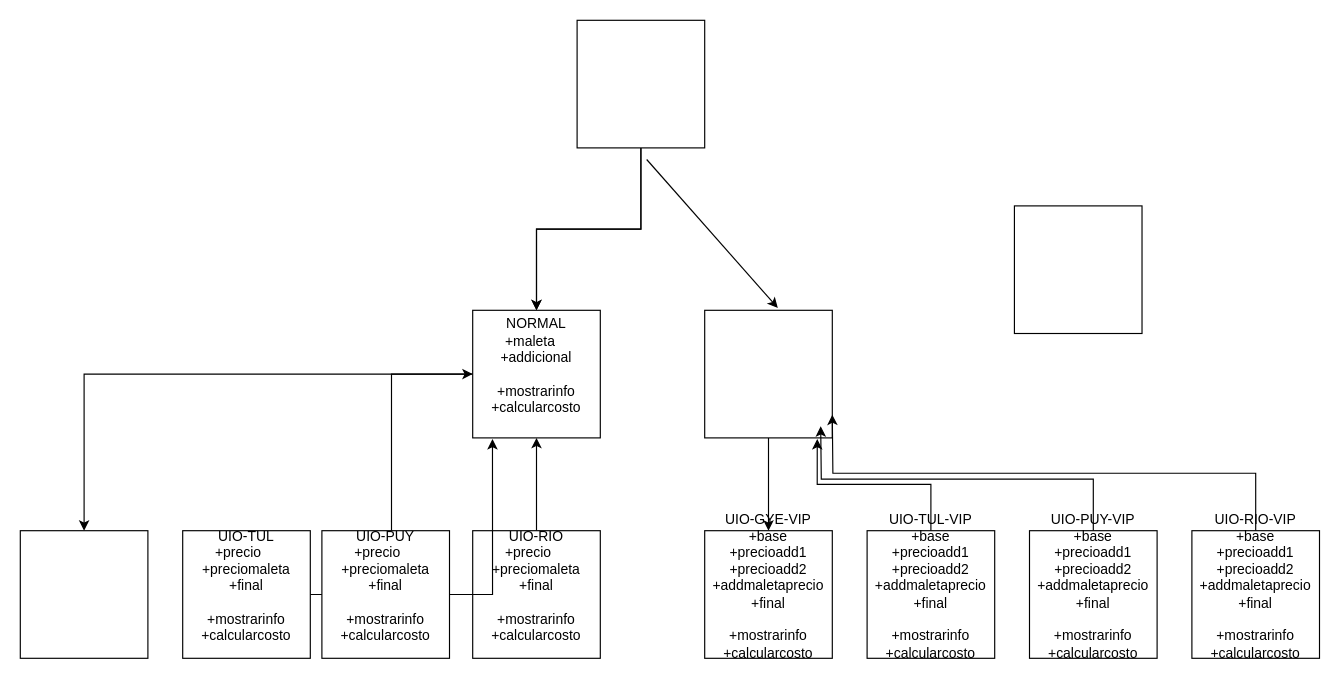
Some shapes in this 1340 by 698 pixel diagram are drawn without their labels. The shapes that lost their labels are listed below. From the top down, each one's centre as x and y in pixels, then its label:
At point (640, 83): "TICKET +numTicket +asiento +mostrarinfo +calcularcosto".
At point (1077, 269): "Pasajero +cedula +nombre +edad +correo +mostrarinfo".
At point (768, 373): "VIP + addicional1 +addicional2 + addicional2maleta +mostrarinfo +calcularcosto".
At point (83, 594): "UIO-GYE +precio +preciomaleta +final +mostrarinfo +calcularcosto".
